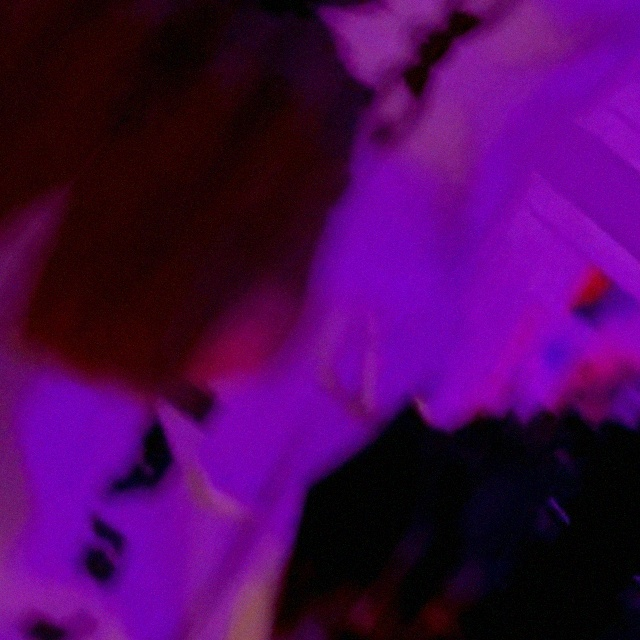Rock: (292, 0, 640, 95)
